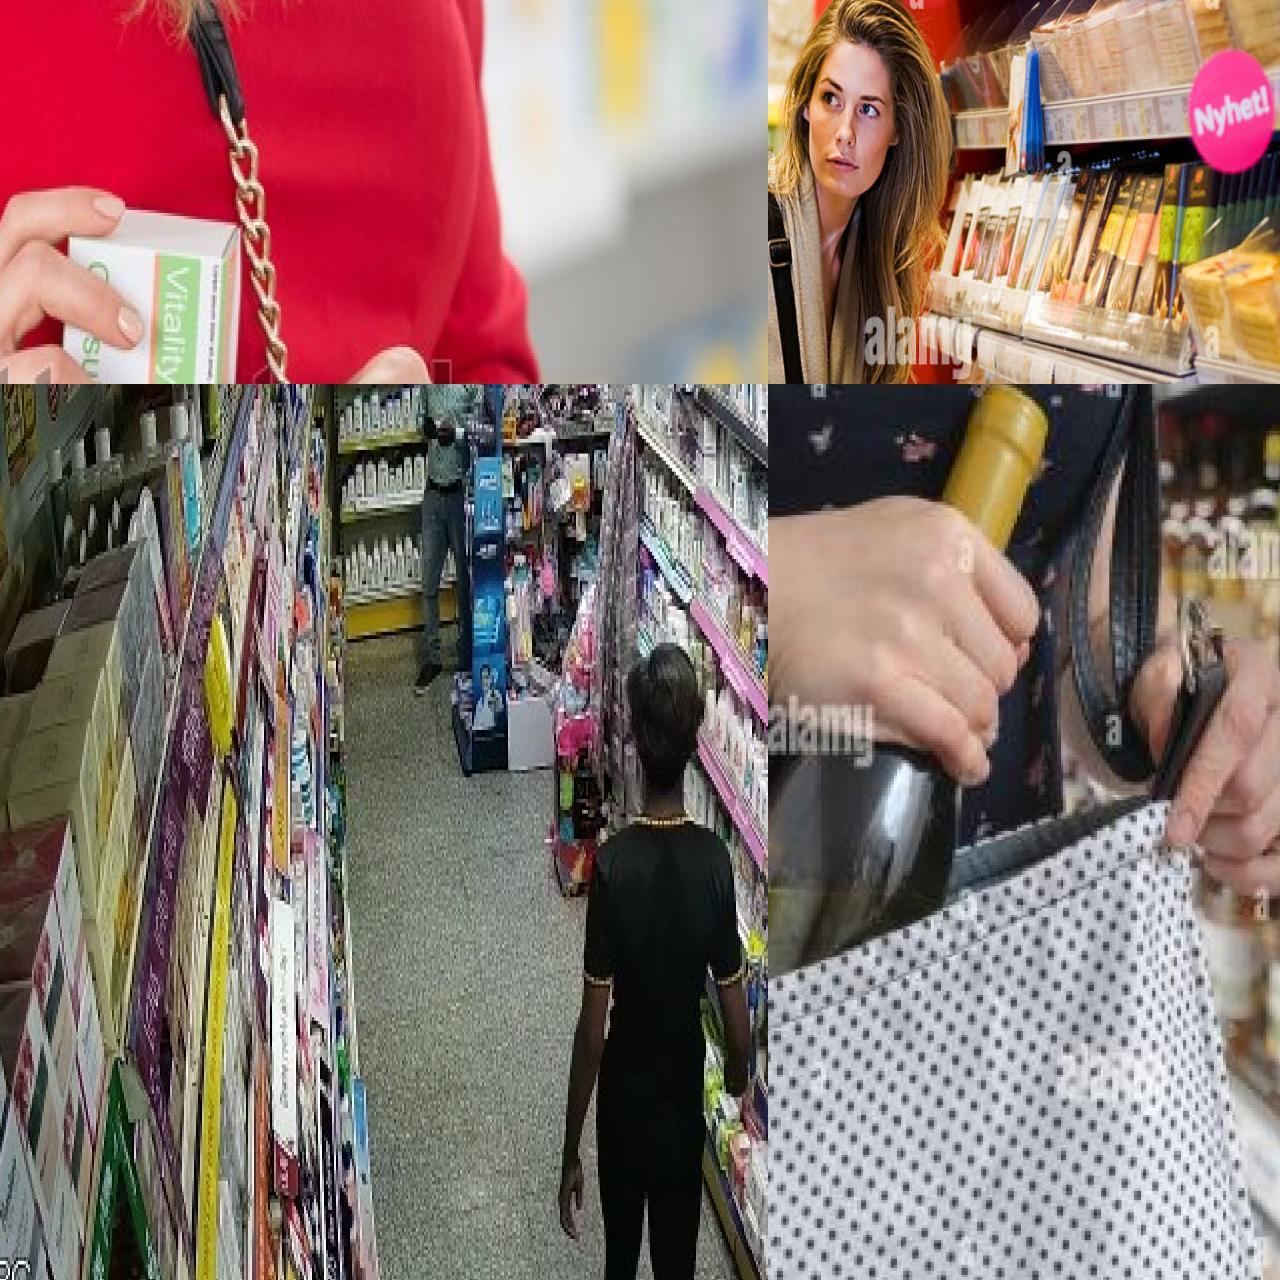Shoplifting: (768, 384, 1280, 1280), (0, 0, 511, 384), (768, 0, 1039, 384)
normal: (552, 594, 768, 1280)
